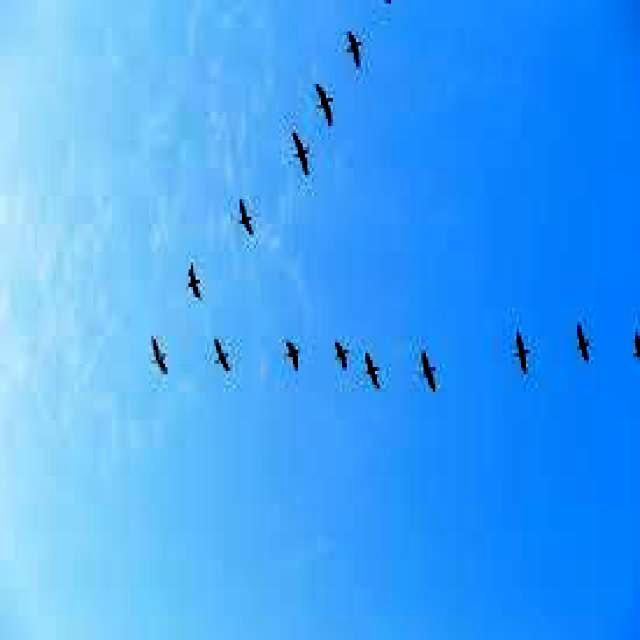bird: (286, 124, 314, 182), (144, 328, 172, 381), (312, 77, 338, 132), (570, 317, 592, 372), (418, 346, 440, 397), (234, 192, 256, 242), (512, 326, 532, 380), (344, 25, 364, 76), (210, 334, 235, 372), (184, 260, 204, 306), (282, 332, 302, 374), (365, 350, 383, 393), (331, 338, 351, 372)
